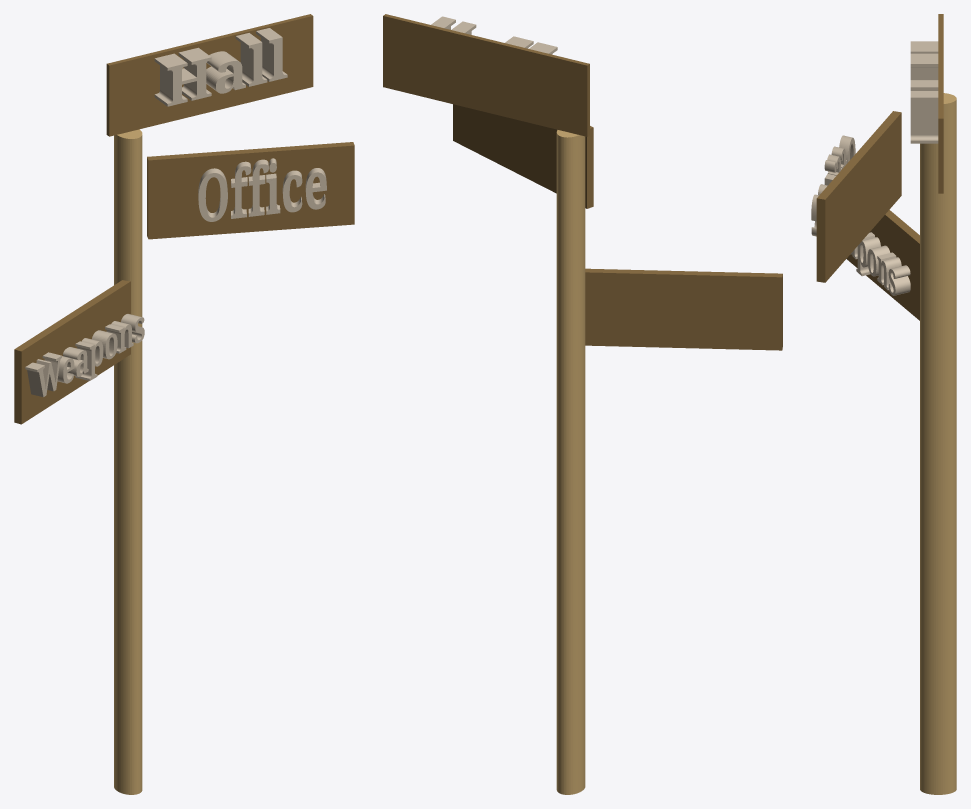
The model's file is signpost.glb.
3 views of the same model, side by side, from view 1: azimuth 30°, elevation 25°; view 2: azimuth 150°, elevation 25°; view 3: azimuth 270°, elevation 25° (orthographic). The views are drawn at different scales.
Parts seen in each view (by area): view 1: Mesh_Mesh_head_geo.001_lambert2SG.001; view 2: Mesh_Mesh_head_geo.001_lambert2SG.001; view 3: Mesh_Mesh_head_geo.001_lambert2SG.001.
Boxes of the visible parts, x1,y1,x2,y2 form: Mesh_Mesh_head_geo.001_lambert2SG.001: [14, 14, 354, 794]; Mesh_Mesh_head_geo.001_lambert2SG.001: [383, 14, 782, 794]; Mesh_Mesh_head_geo.001_lambert2SG.001: [811, 14, 956, 794].
Size of the model in its own units: 0.046 by 0.092 by 0.0158.
